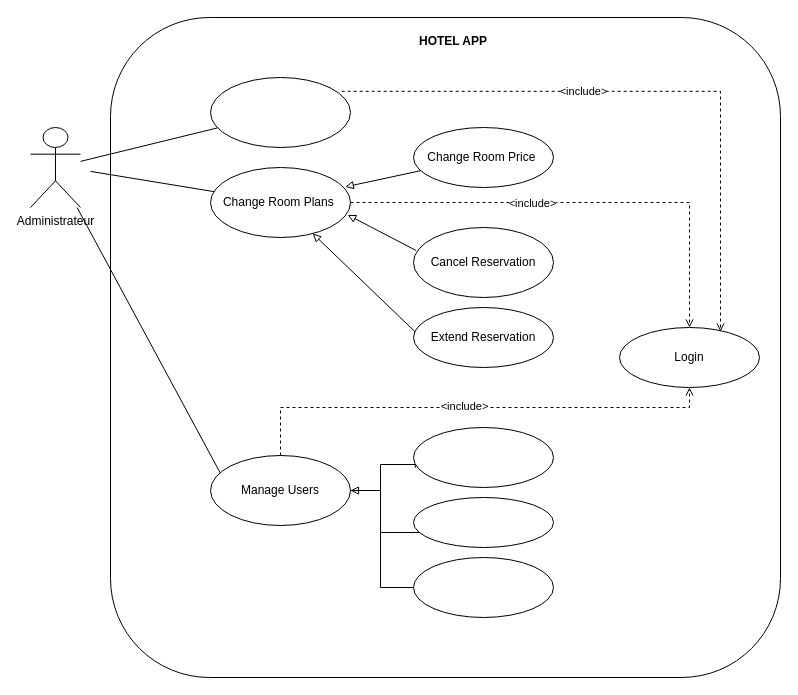
This 798x695 diagram has some shape labels left out. The centre of each missing label's shape, as x and y in pixels:
"Add User" belongs at point 483,457.
"Check Reservation" belongs at point 280,112.
"Delete User" belongs at point 483,587.
"Edit User" belongs at point 483,522.
